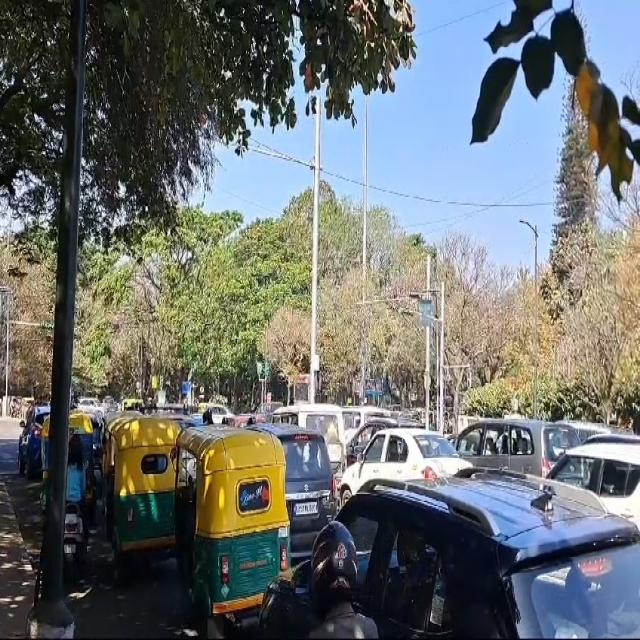cars: (345, 478, 640, 640), (342, 428, 476, 506), (275, 433, 339, 557), (460, 420, 587, 481)
